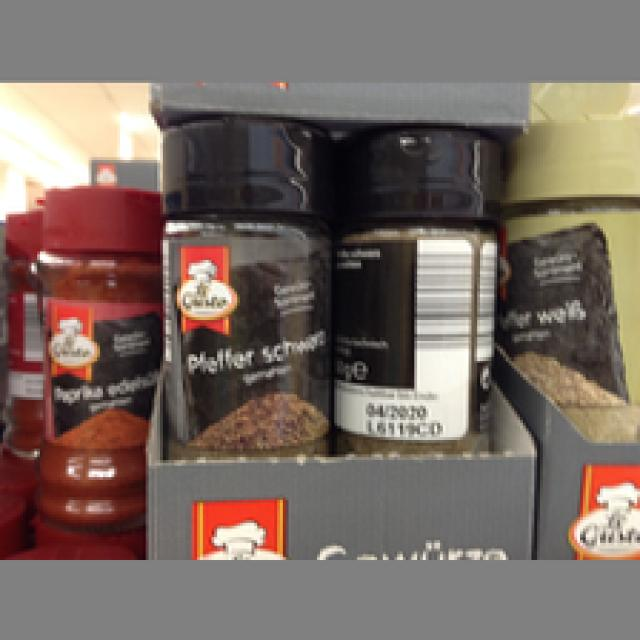groceries: (154, 117, 329, 452), (331, 123, 500, 454), (37, 183, 154, 543)
